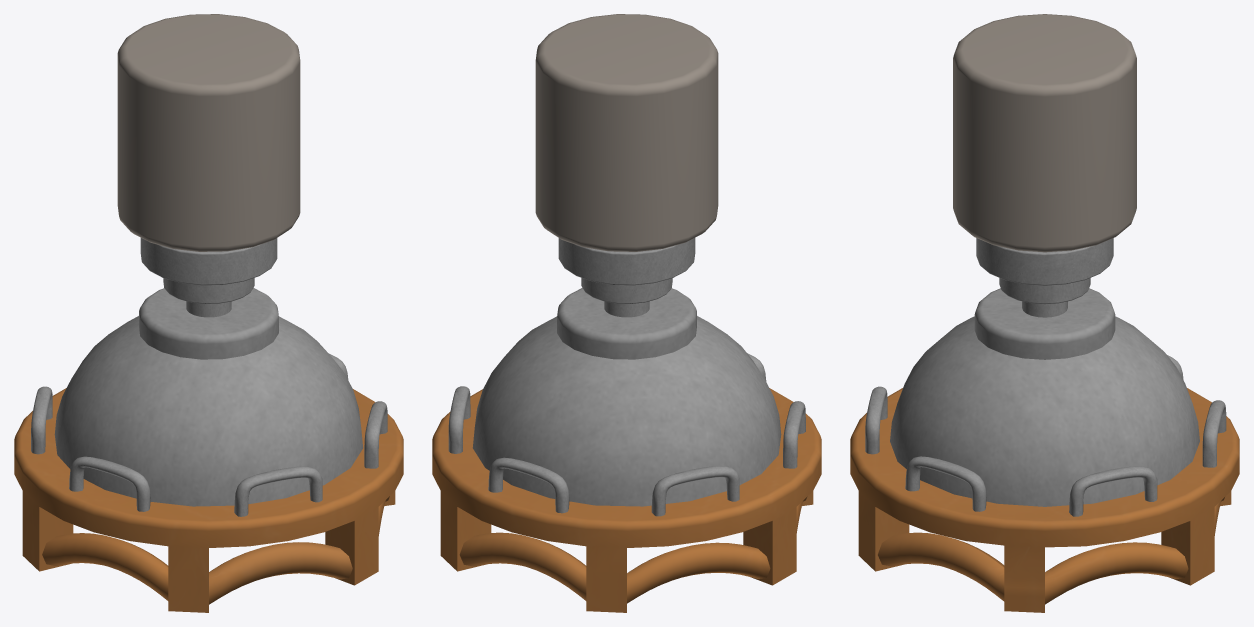
The model's file is Location.fbx.
3 views of the same model, side by side, from view 1: azimuth 30°, elevation 25°; view 2: azimuth 150°, elevation 25°; view 3: azimuth 270°, elevation 25° (orthographic).
Parts seen in each view (by area): view 1: dome, Light, stand, stand2, nurbsToPoly1, nurbsToPoly3, nurbsToPoly6, nurbsToPoly2; view 2: dome, Light, stand, stand2, nurbsToPoly2, nurbsToPoly4, nurbsToPoly3, nurbsToPoly5; view 3: dome, Light, stand, stand2, nurbsToPoly5, nurbsToPoly6, nurbsToPoly4, nurbsToPoly1.
Part boxes in pixels (bbox=[...]): dome: bbox=[54, 288, 363, 506]; Light: bbox=[117, 14, 300, 251]; stand: bbox=[14, 388, 403, 612]; stand2: bbox=[140, 238, 277, 317]; nurbsToPoly1: bbox=[234, 466, 322, 516]; nurbsToPoly3: bbox=[69, 456, 150, 511]; nurbsToPoly6: bbox=[364, 401, 387, 468]; nurbsToPoly2: bbox=[31, 386, 52, 454]; dome: bbox=[472, 288, 781, 506]; Light: bbox=[535, 14, 718, 251]; stand: bbox=[432, 388, 821, 612]; stand2: bbox=[558, 238, 695, 317]; nurbsToPoly2: bbox=[651, 466, 739, 516]; nurbsToPoly4: bbox=[488, 457, 569, 513]; nurbsToPoly3: bbox=[783, 401, 805, 468]; nurbsToPoly5: bbox=[448, 386, 470, 453]; dome: bbox=[890, 288, 1199, 506]; Light: bbox=[953, 14, 1136, 252]; stand: bbox=[850, 388, 1239, 612]; stand2: bbox=[976, 238, 1113, 317]; nurbsToPoly5: bbox=[1069, 466, 1157, 516]; nurbsToPoly6: bbox=[905, 456, 986, 511]; nurbsToPoly4: bbox=[1202, 400, 1226, 467]; nurbsToPoly1: bbox=[865, 386, 887, 454].
Bounding box in the file's own units: 5 × 6.77 × 4.97.
Materials: 7 (6 with a texture image).
